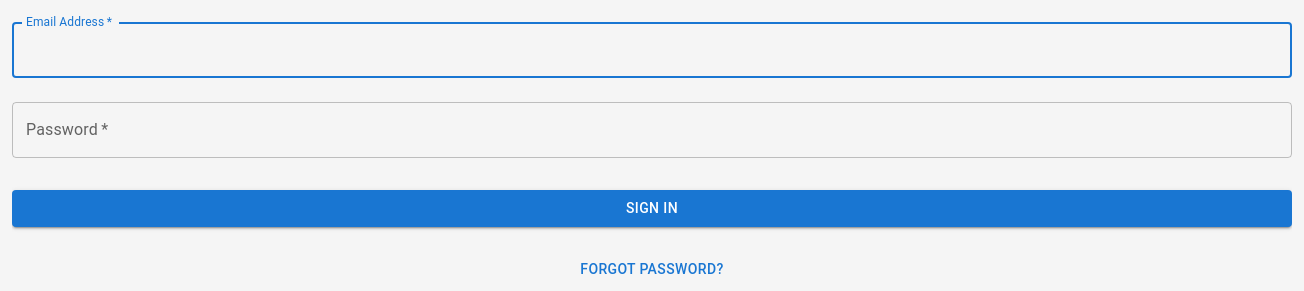
SignInForm › shows loading state during submission
This screenshot has width=1304, height=291.
Type "test@example.com" into the field labelled "Email Address *" at point(652, 50), box [12,22,1292,78]
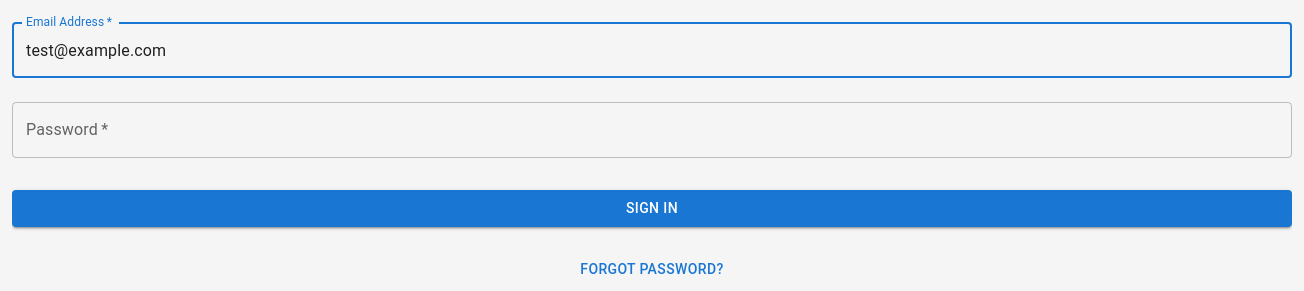
Type "password123" into the password field labelled "Password *" at point(652, 130), box [12,102,1292,158]
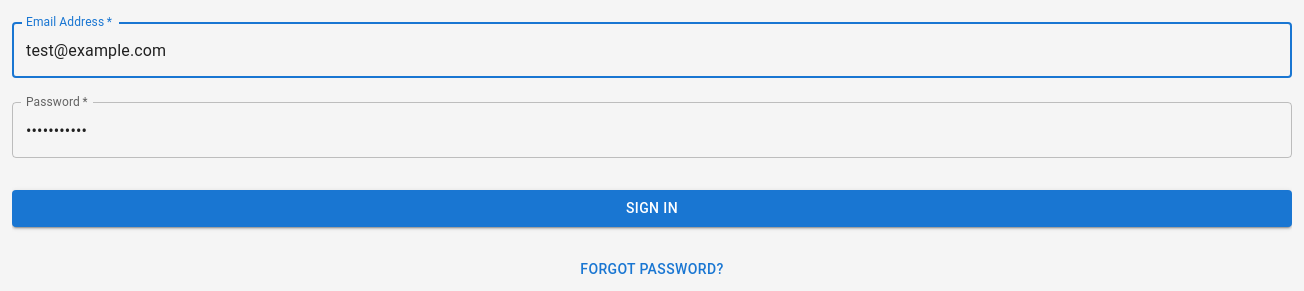
Click the button "Sign In" at point(652, 208), box [12,190,1292,226]
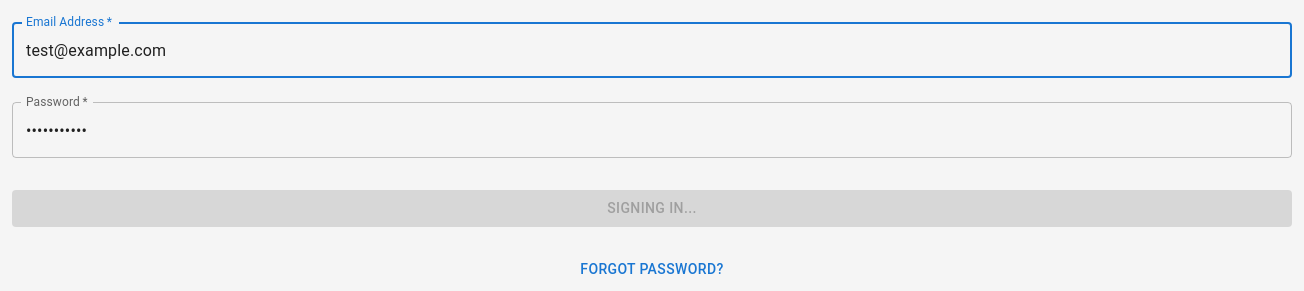
Expected: the button "Signing in..." is disabled, [12,190,1292,226]
